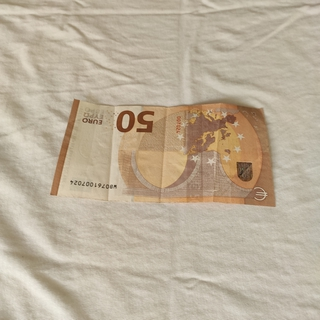50EUROBack: (48, 96, 277, 208)
